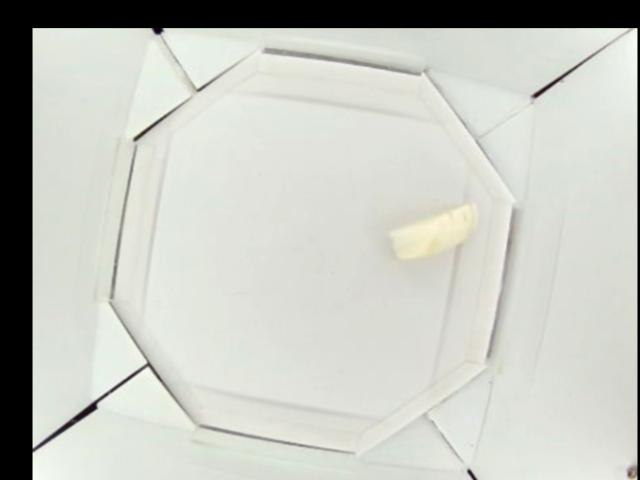Mooli: (389, 199, 478, 262)
